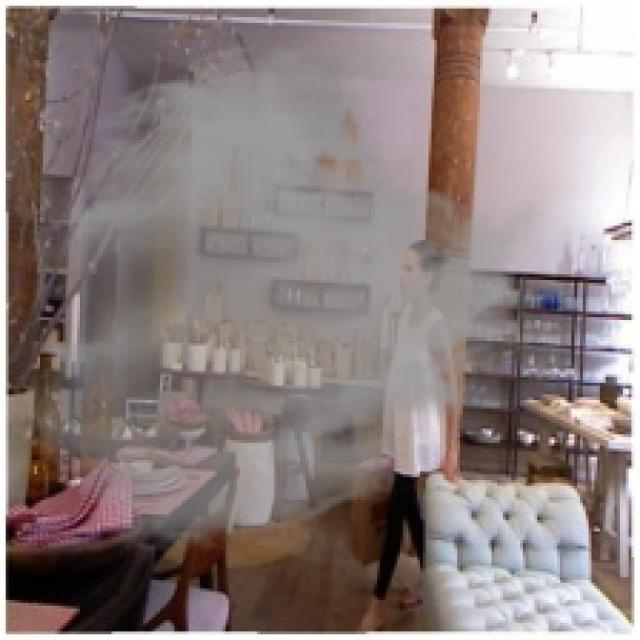smoke: (20, 40, 549, 557)
